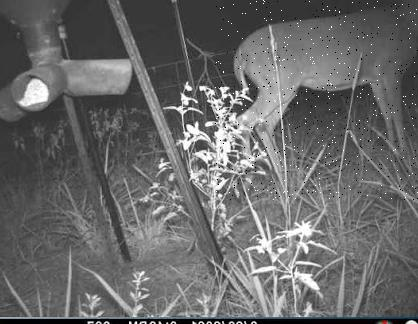Deer: (215, 0, 418, 200)
